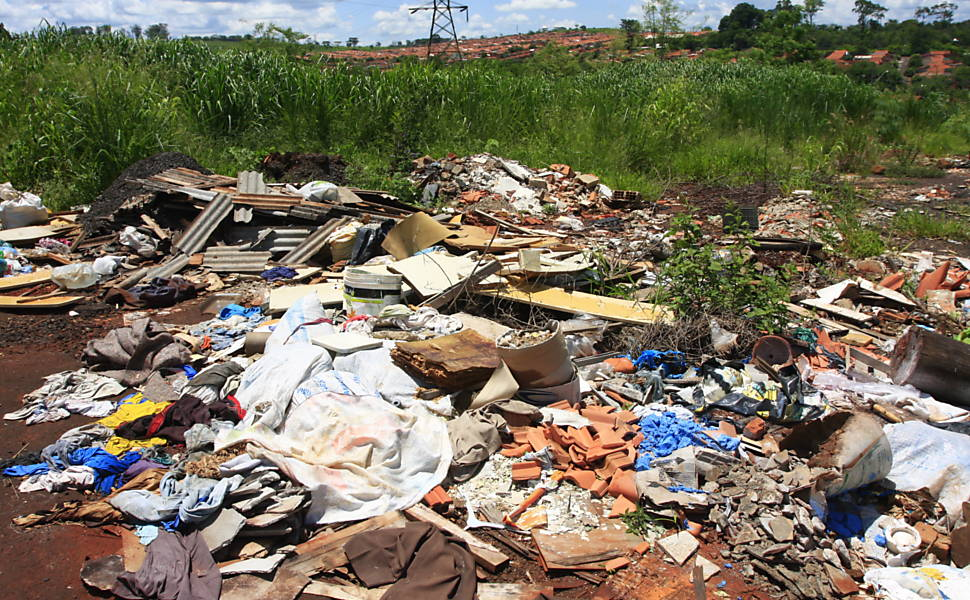rubble: (51, 167, 970, 580)
